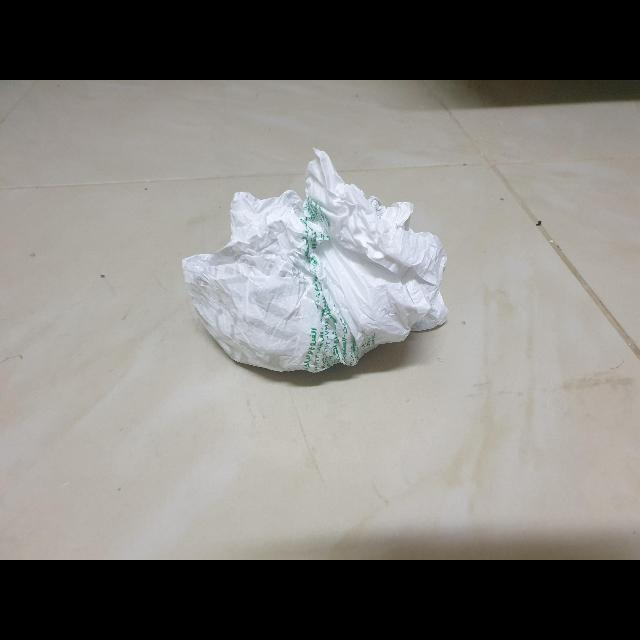sacola plástica: (172, 138, 456, 384)
